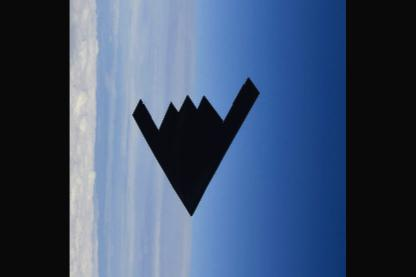B1: (132, 76, 260, 216)
